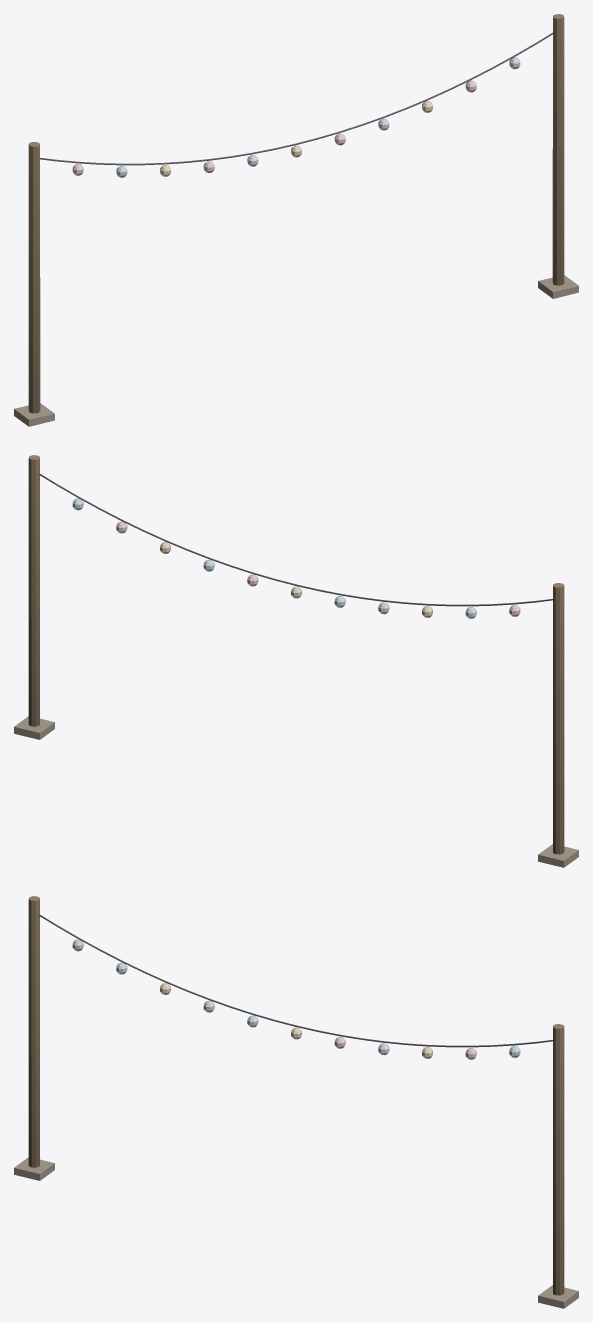
File: string_lights_low.glb
The picture shows the model from 3 angles, top to bottom: view 1: azimuth 30°, elevation 25°; view 2: azimuth 150°, elevation 25°; view 3: azimuth 330°, elevation 25°; orthographic projection.
Bounding box in the file's own units: 6.3 × 3 × 0.2979.
